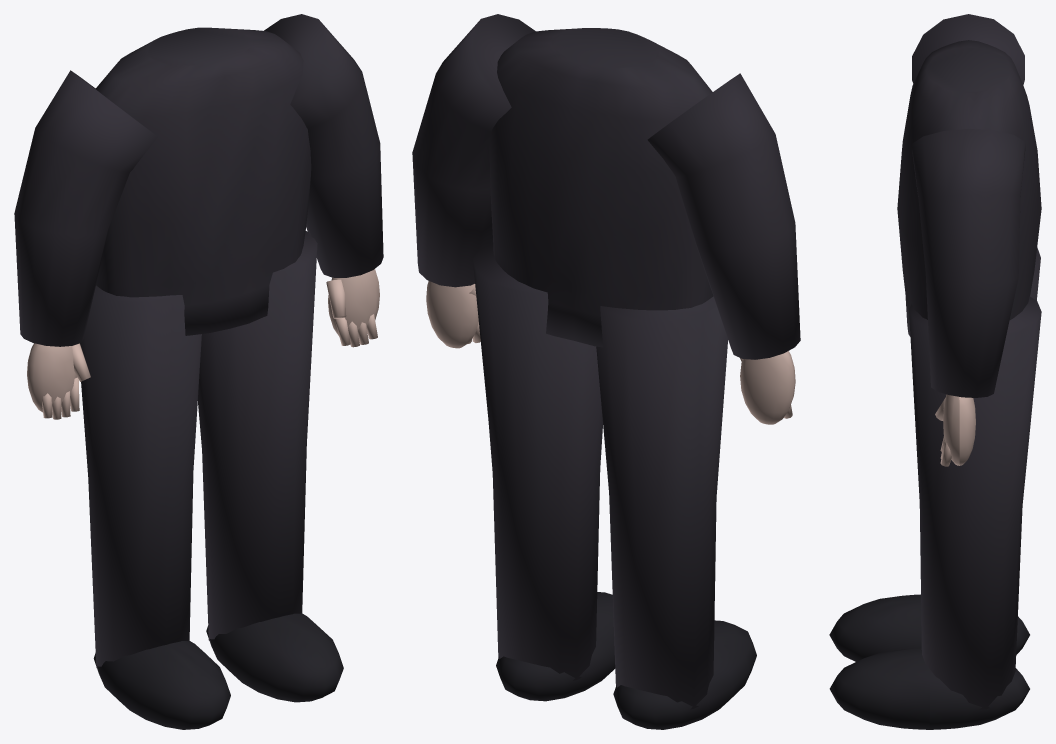
File: hydra-body-visual.glb
The picture shows the model from 3 angles, left to right: view 1: azimuth 30°, elevation 25°; view 2: azimuth 150°, elevation 25°; view 3: azimuth 270°, elevation 25°; orthographic projection. The views are drawn at different scales.
Visible parts, largest first — view 1: hydra_body_mesh; view 2: hydra_body_mesh; view 3: hydra_body_mesh.
Boxes of the visible parts, x1,y1,x2,y2 form: hydra_body_mesh: [14, 14, 383, 729]; hydra_body_mesh: [412, 14, 800, 729]; hydra_body_mesh: [829, 14, 1041, 729].
Bounding box in the file's own units: 0.8856 × 1.51 × 0.4649.
